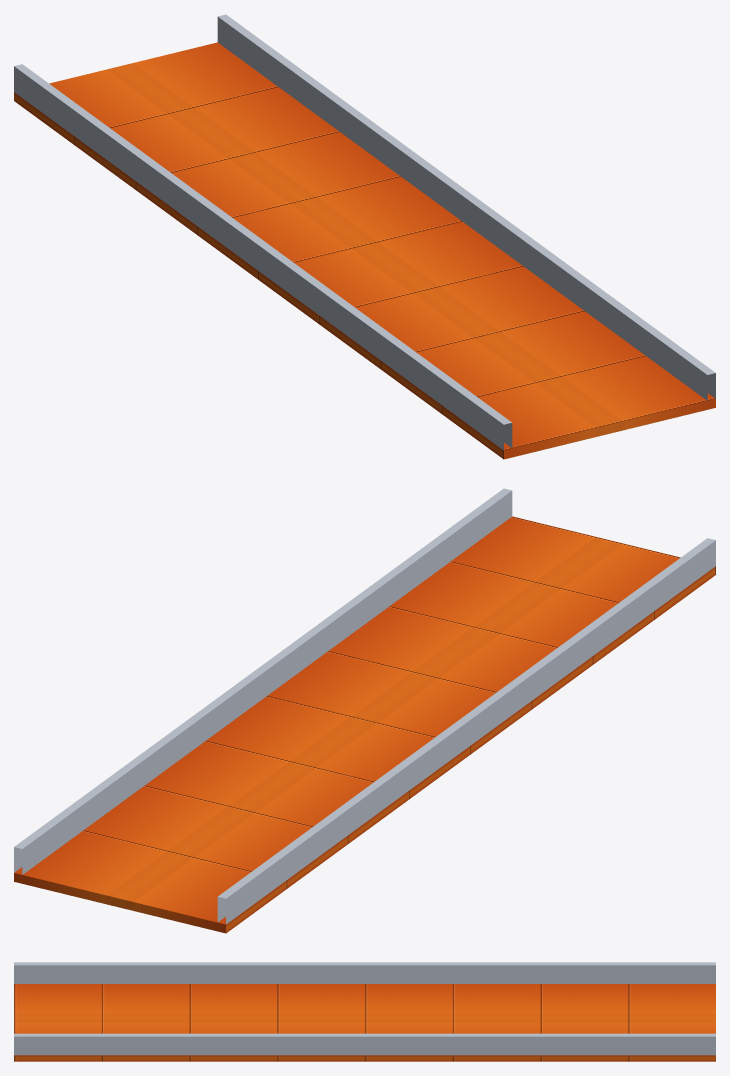
The model's file is straight-12.glb.
The picture shows the model from 3 angles, top to bottom: view 1: azimuth 30°, elevation 25°; view 2: azimuth 150°, elevation 25°; view 3: azimuth 270°, elevation 25°; orthographic projection. The views are drawn at different scales.
Size of the model in its own units: 3 by 0.47 by 12.
Materials: 2 (1 with a texture image).
